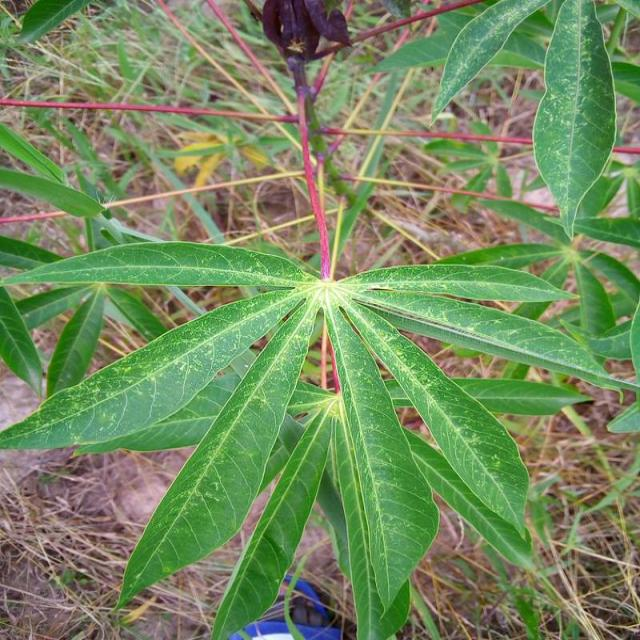cassava leaf: (0, 1, 638, 637), (114, 290, 318, 611), (0, 286, 304, 455), (531, 0, 617, 241)
